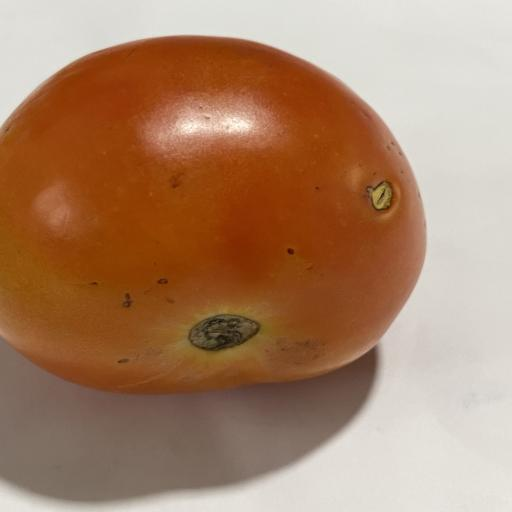unripe: (0, 36, 425, 394)
